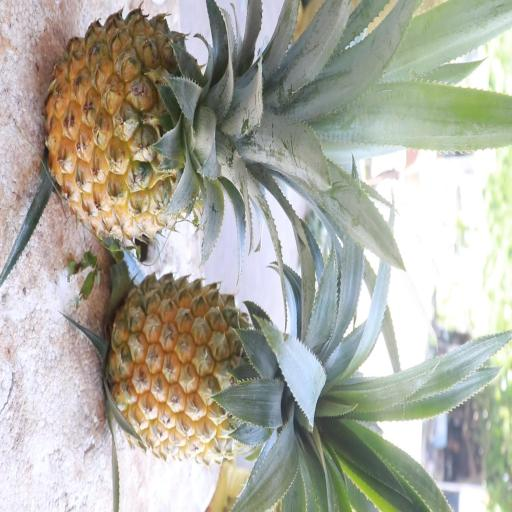Pineapple - v8 v1: (40, 0, 291, 246), (102, 266, 343, 473)
